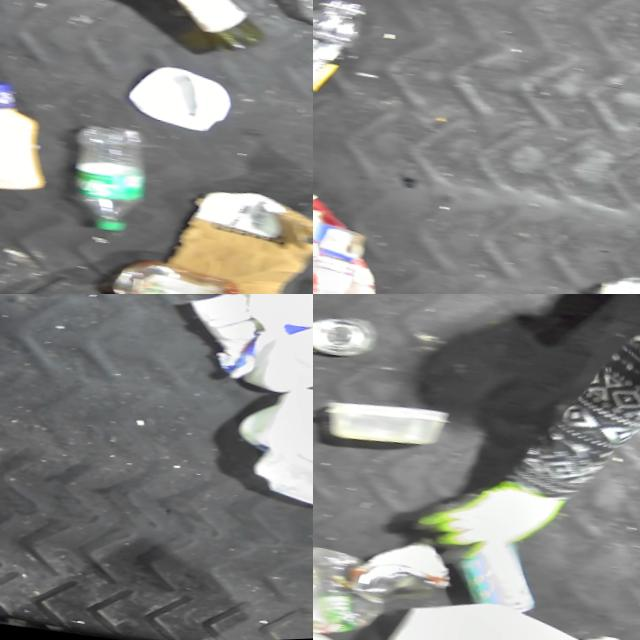can: (353, 532, 466, 616), (105, 250, 257, 294), (313, 306, 386, 366)
milk_jug: (368, 584, 635, 640), (227, 374, 313, 534), (246, 308, 313, 407)
plastic_bottle: (61, 119, 171, 241), (313, 0, 379, 111)
